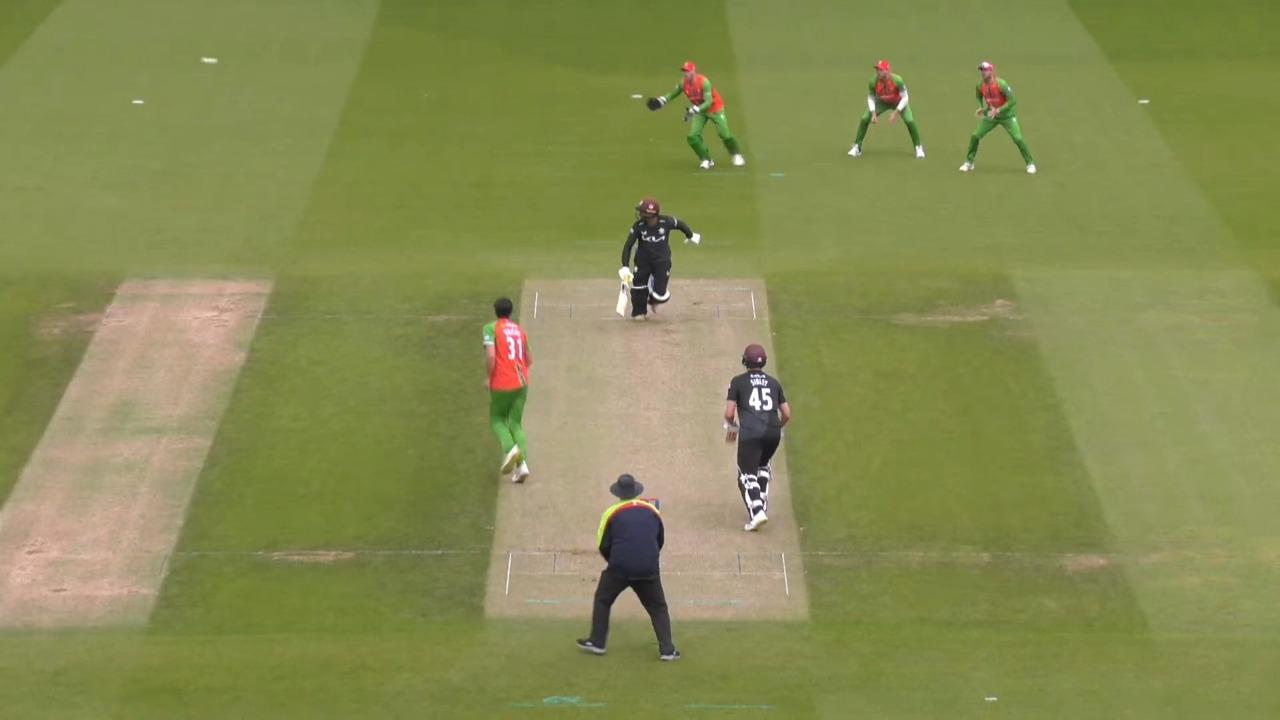sports ball: (201, 57, 218, 63)
